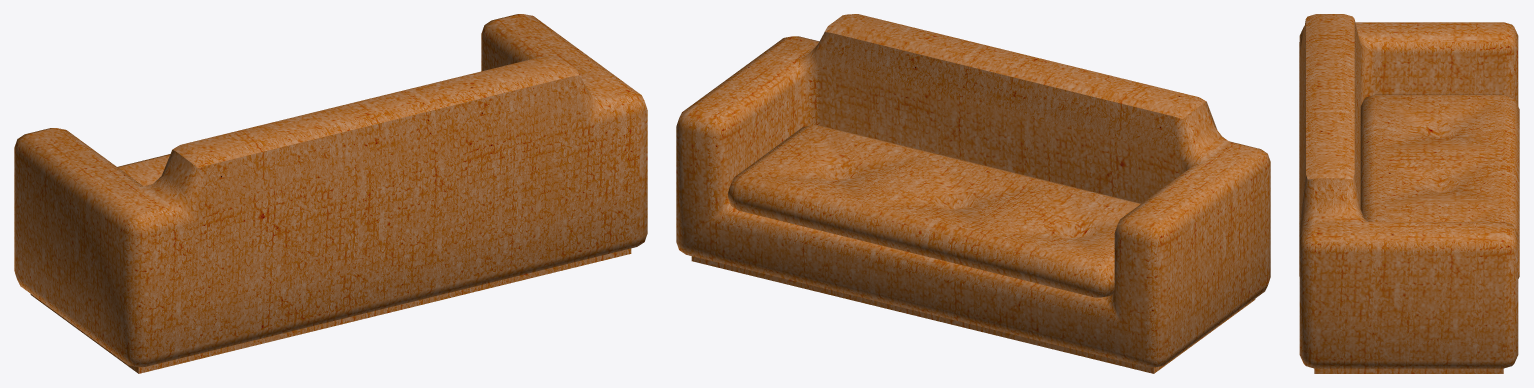
Rendered from FUR0210032.fbx.
3 views of the same model, side by side, from view 1: azimuth 30°, elevation 25°; view 2: azimuth 150°, elevation 25°; view 3: azimuth 270°, elevation 25° (orthographic). The views are drawn at different scales.
Parts seen in each view (by area): view 1: smFUR0210032; view 2: smFUR0210032; view 3: smFUR0210032.
Boxes of the visible parts, x1,y1,x2,y2 form: smFUR0210032: (14, 14, 647, 373); smFUR0210032: (676, 14, 1270, 373); smFUR0210032: (1299, 14, 1519, 373).
Bounding box in the file's own units: 270 × 99.38 × 113.
Materials: 1 (1 with a texture image).
